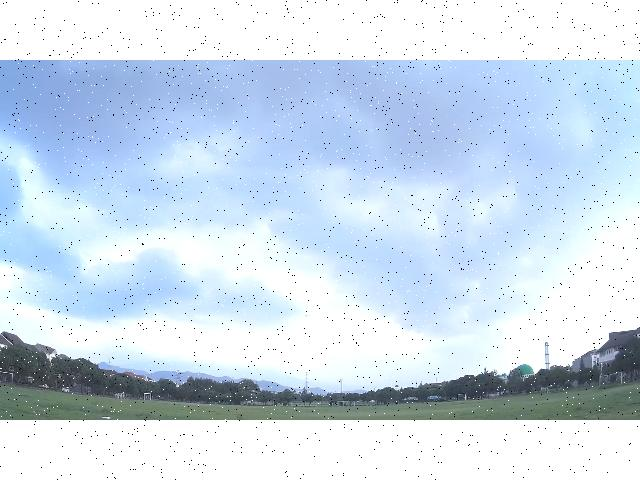Anti-Drone: (298, 310, 318, 320)
